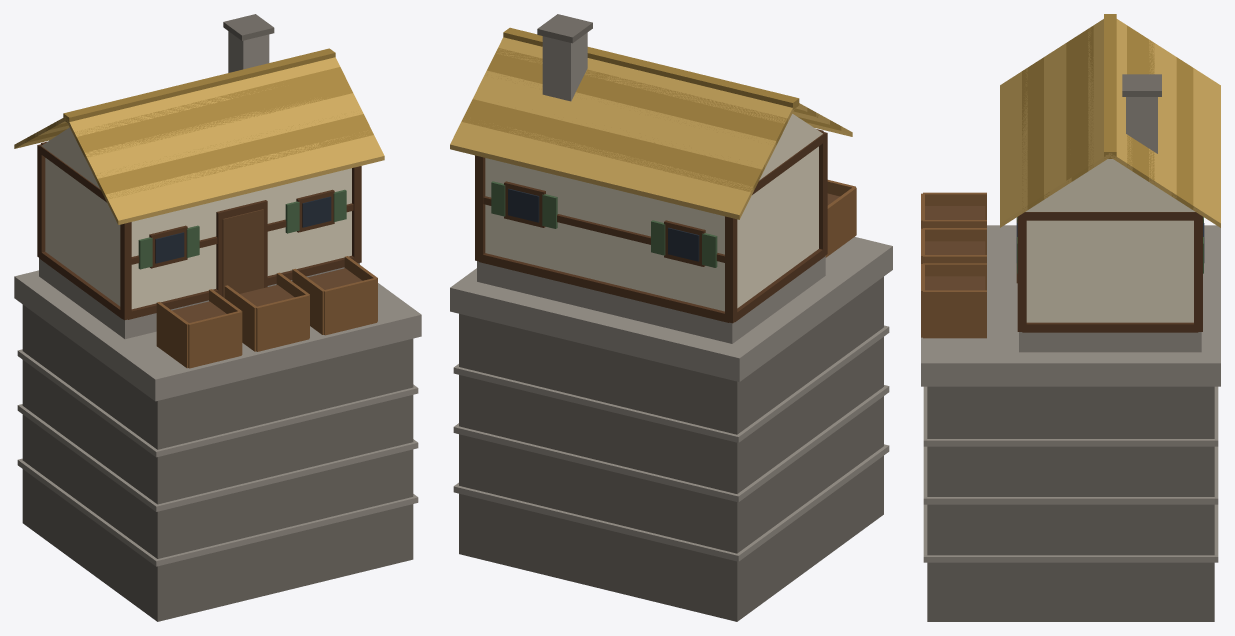
Rendered from compost_yard.glb.
3 views of the same model, side by side, from view 1: azimuth 30°, elevation 25°; view 2: azimuth 150°, elevation 25°; view 3: azimuth 270°, elevation 25° (orthographic). The views are drawn at different scales.
Visible parts, largest first — view 1: compost_yard; view 2: compost_yard; view 3: compost_yard.
Part boxes in pixels (x1,y1,x2,y2): compost_yard: (14,14,421,621); compost_yard: (450,14,892,621); compost_yard: (921,14,1220,621).
Size of the model in its own units: 5.1 by 8.72 by 4.68.
